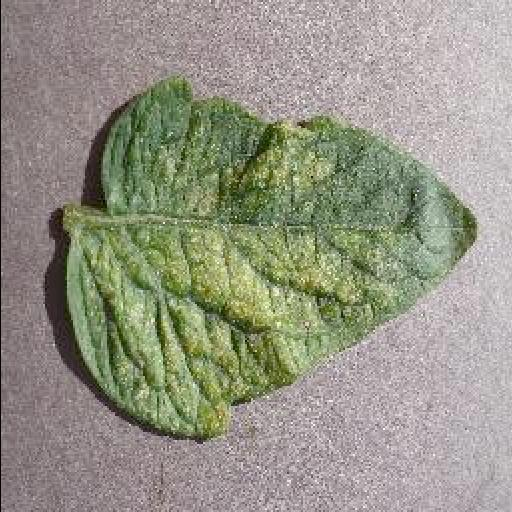disease_tomato: (62, 78, 478, 436)
